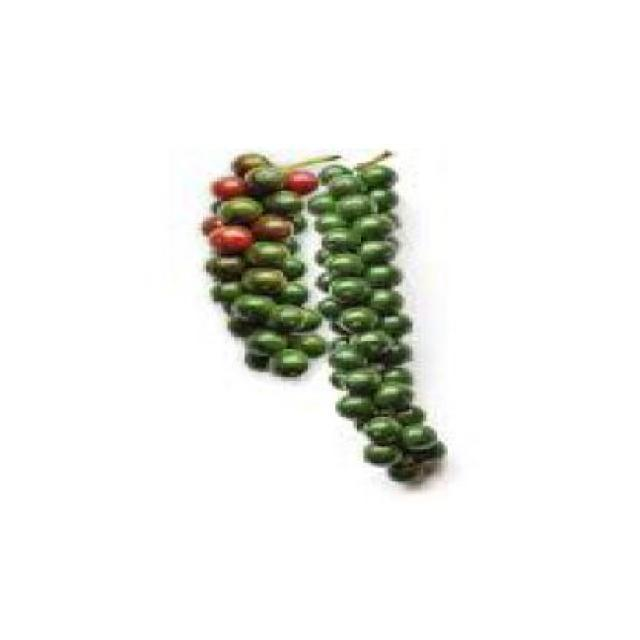RIPE: (178, 116, 312, 378)
UNRIPE: (315, 139, 455, 487)
